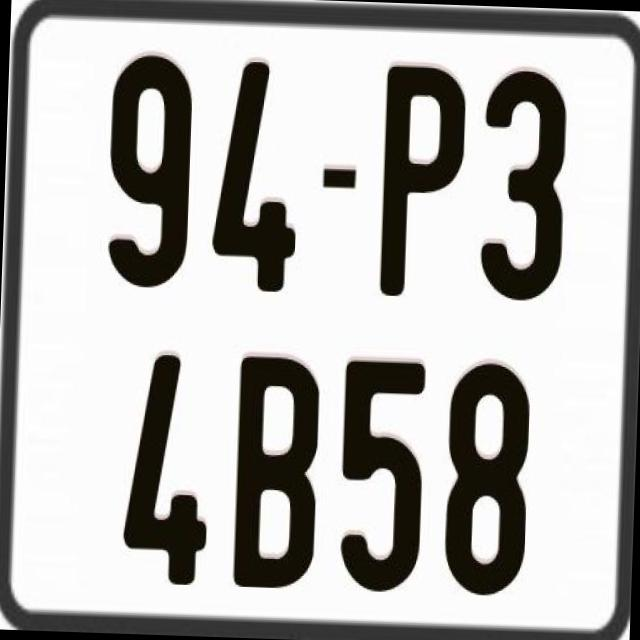3: (478, 66, 568, 306)
4: (208, 57, 306, 295), (118, 353, 214, 593)
5: (334, 354, 426, 596)
8: (438, 361, 534, 603)
9: (105, 48, 201, 286)
B: (232, 352, 318, 595)
P: (377, 59, 465, 300)
